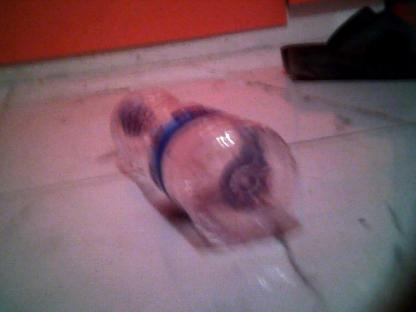Plastic Bottle: (108, 85, 296, 243)
